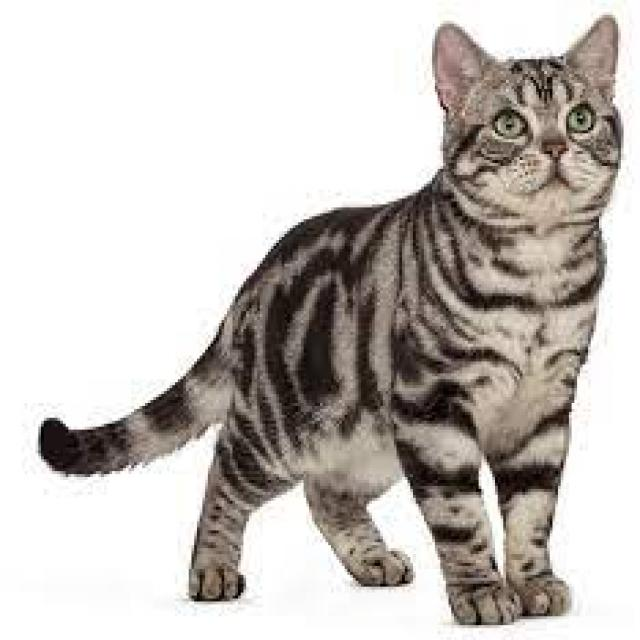cat-face: (388, 13, 640, 254)
